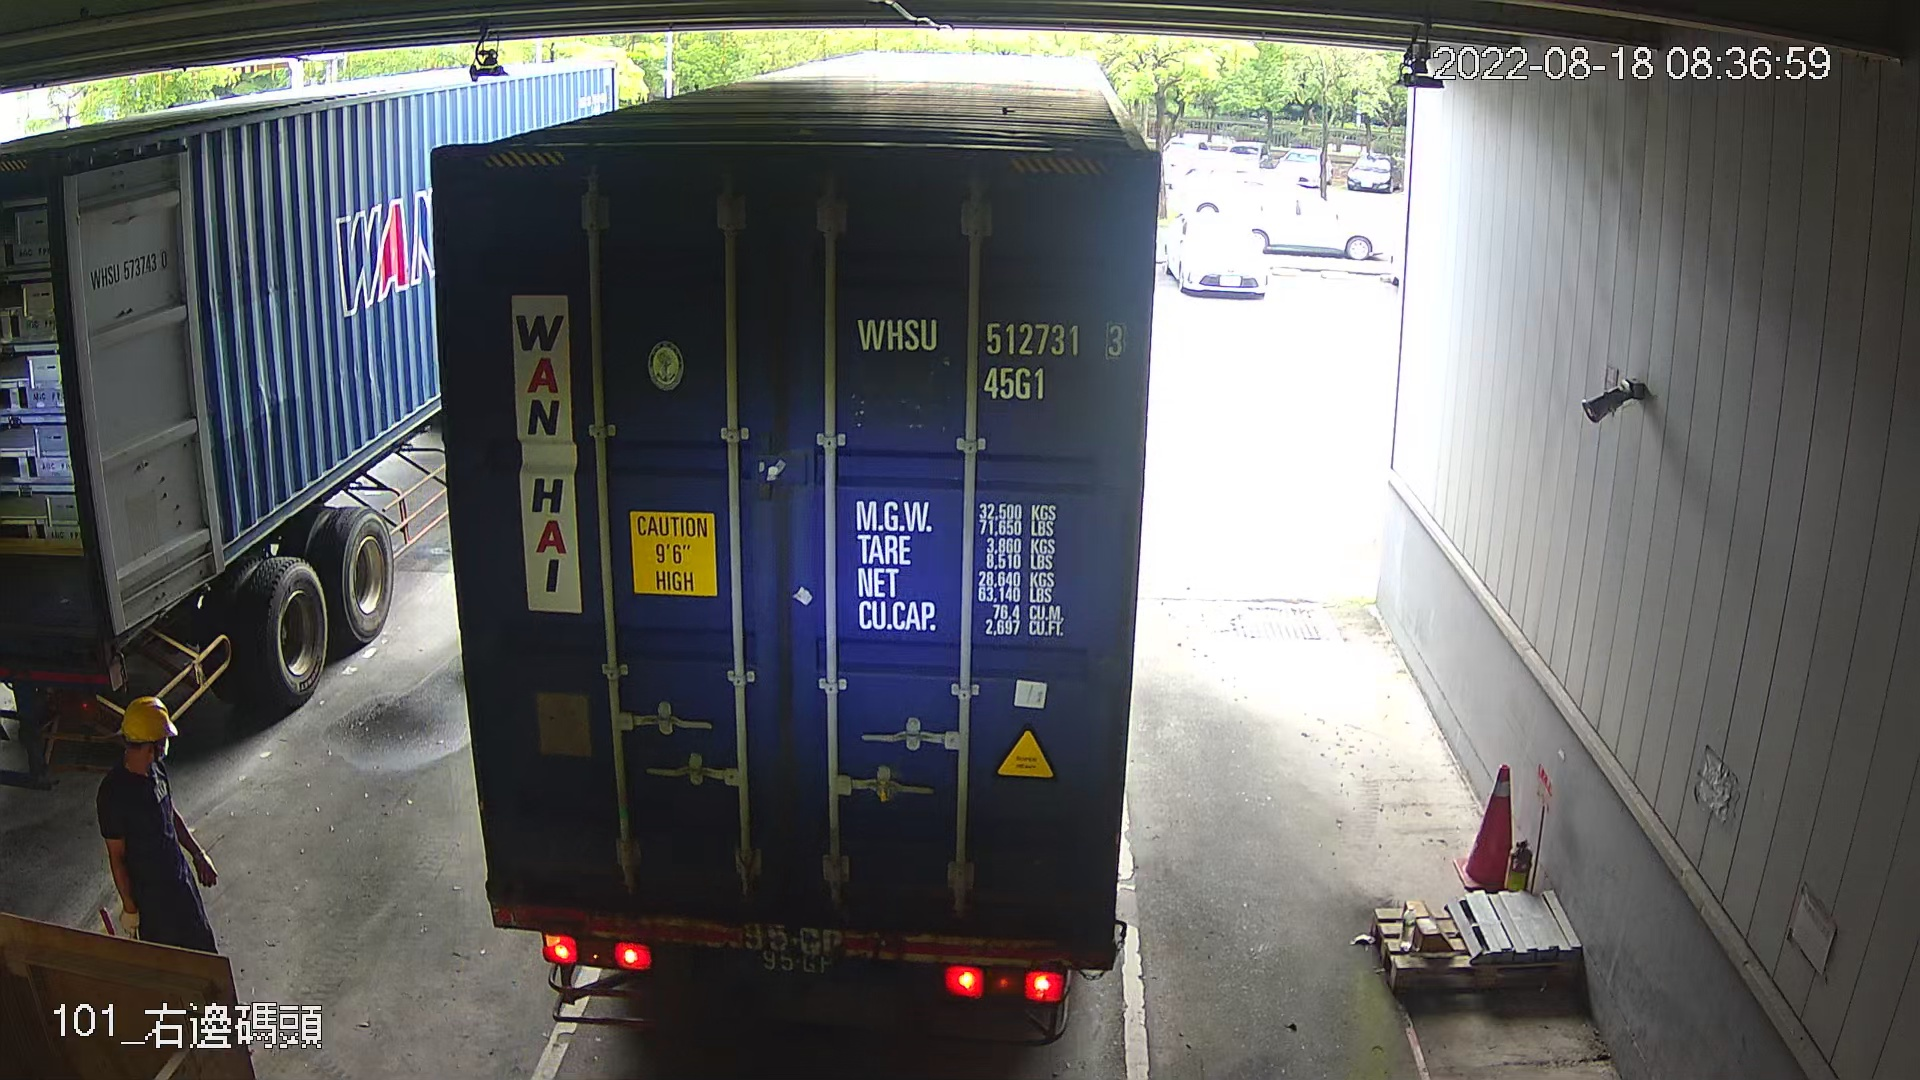container: (847, 309, 1131, 407)
